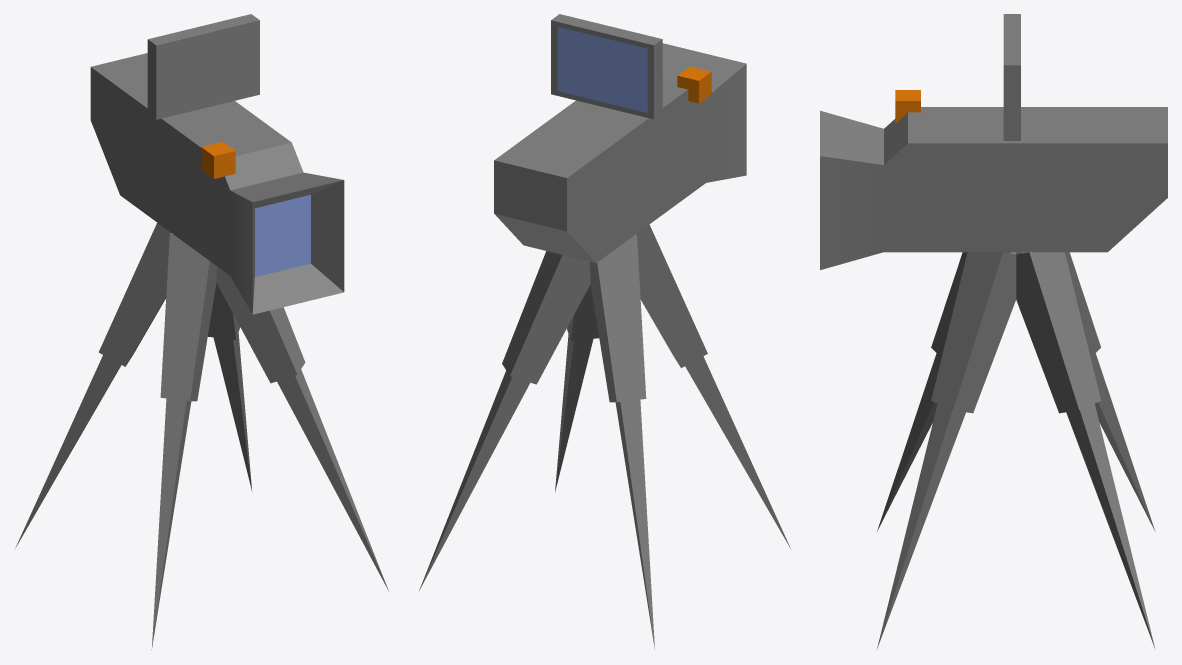
Rendered from camera.fbx.
3 renders of one model, left to right at view 1: azimuth 30°, elevation 25°; view 2: azimuth 150°, elevation 25°; view 3: azimuth 270°, elevation 25°, orthographic. The views are drawn at different scales.
Parts seen in each view (by area): view 1: camera; view 2: camera; view 3: camera.
Part boxes in pixels (x1,y1,x2,y2): camera: (15, 14, 388, 649); camera: (419, 14, 790, 649); camera: (820, 14, 1167, 649).
Size of the model in its own units: 64.13 by 140 by 79.91.
